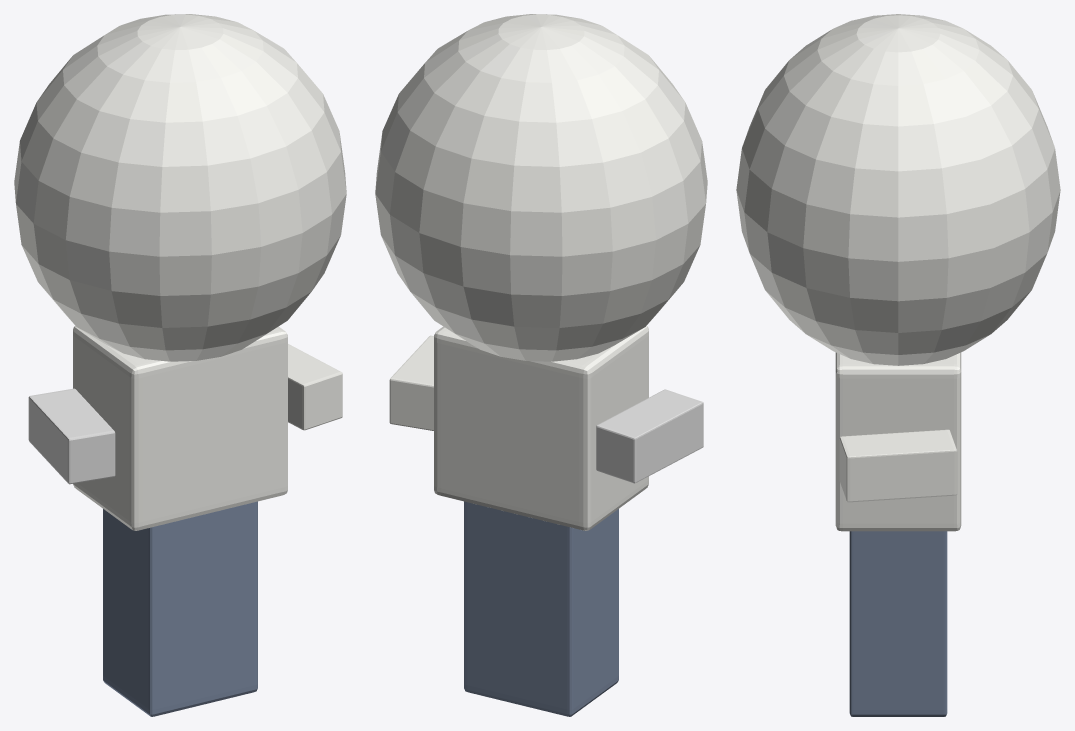
Rendered from npc_basis_male_lod0.fbx.
The picture shows the model from 3 angles, left to right: view 1: azimuth 30°, elevation 25°; view 2: azimuth 150°, elevation 25°; view 3: azimuth 270°, elevation 25°; orthographic projection.
Parts seen in each view (by area): view 1: Sphere.001, Cube.001, Cube, Cube.002, Cube.003; view 2: Sphere.001, Cube.001, Cube, Cube.002, Cube.003; view 3: Sphere.001, Cube, Cube.001, Cube.003.
Boxes of the visible parts, x1,y1,x2,y2 form: Sphere.001: (14, 14, 346, 361); Cube.001: (73, 326, 287, 530); Cube: (103, 501, 257, 716); Cube.002: (28, 388, 115, 484); Cube.003: (288, 344, 342, 430); Sphere.001: (375, 14, 707, 361); Cube.001: (434, 326, 648, 530); Cube: (464, 501, 618, 716); Cube.002: (596, 389, 703, 483); Cube.003: (389, 335, 433, 430); Sphere.001: (736, 14, 1060, 365); Cube: (849, 531, 947, 716); Cube.001: (835, 352, 961, 531); Cube.003: (839, 429, 957, 502).
Size of the model in its own units: 1.22 by 2.62 by 1.16.
